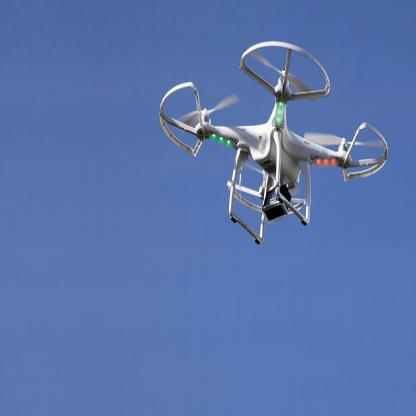drone: (155, 57, 387, 229)
